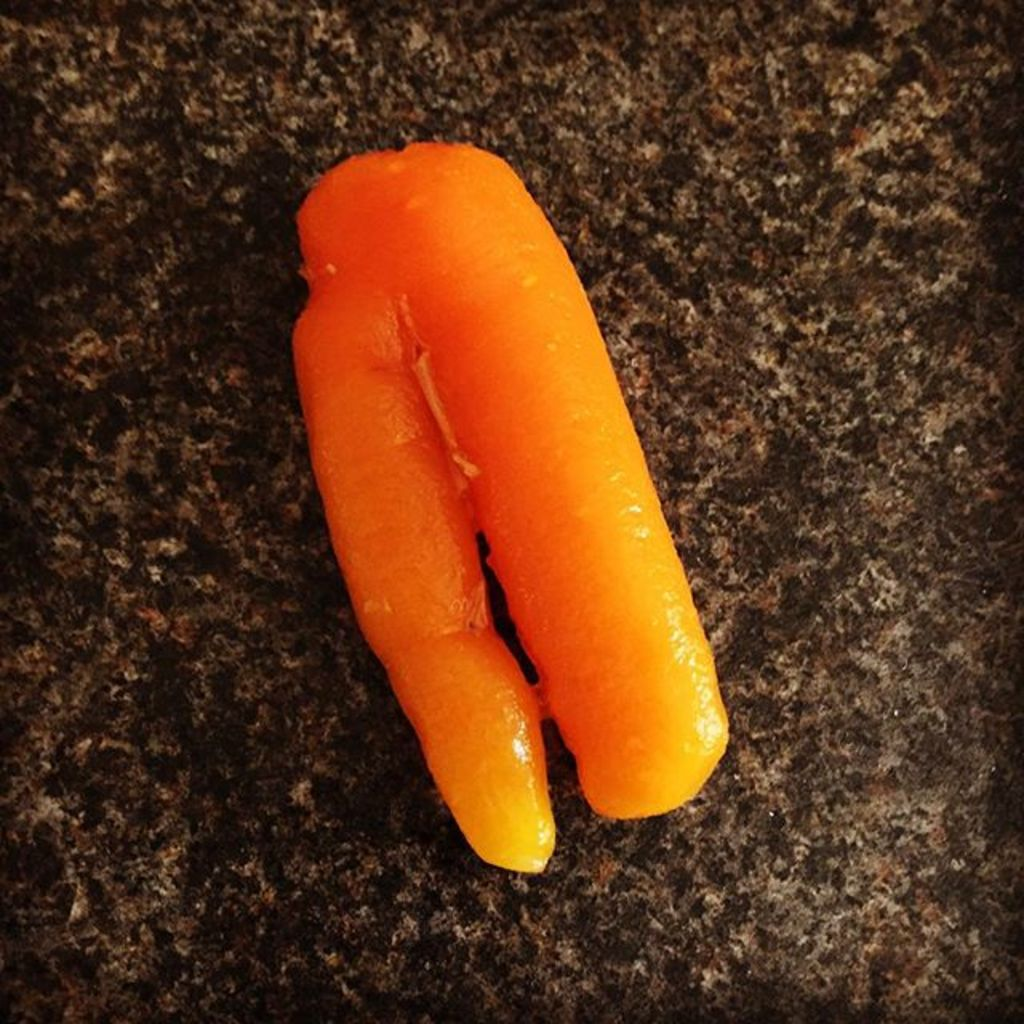Carrot: (377, 145, 731, 820), (294, 150, 555, 871)
